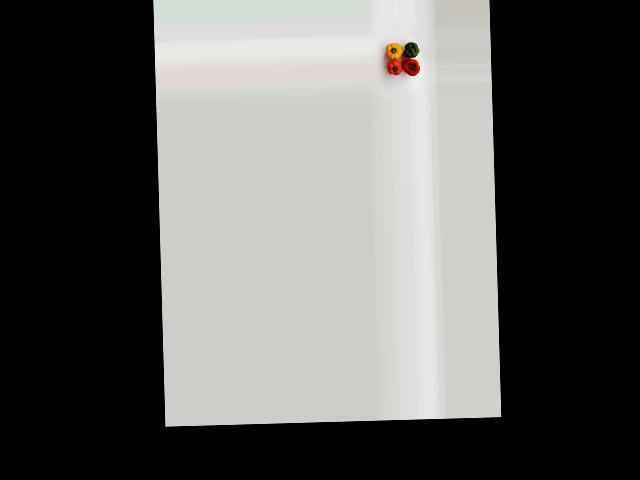bell_pepper: (402, 37, 420, 61)
